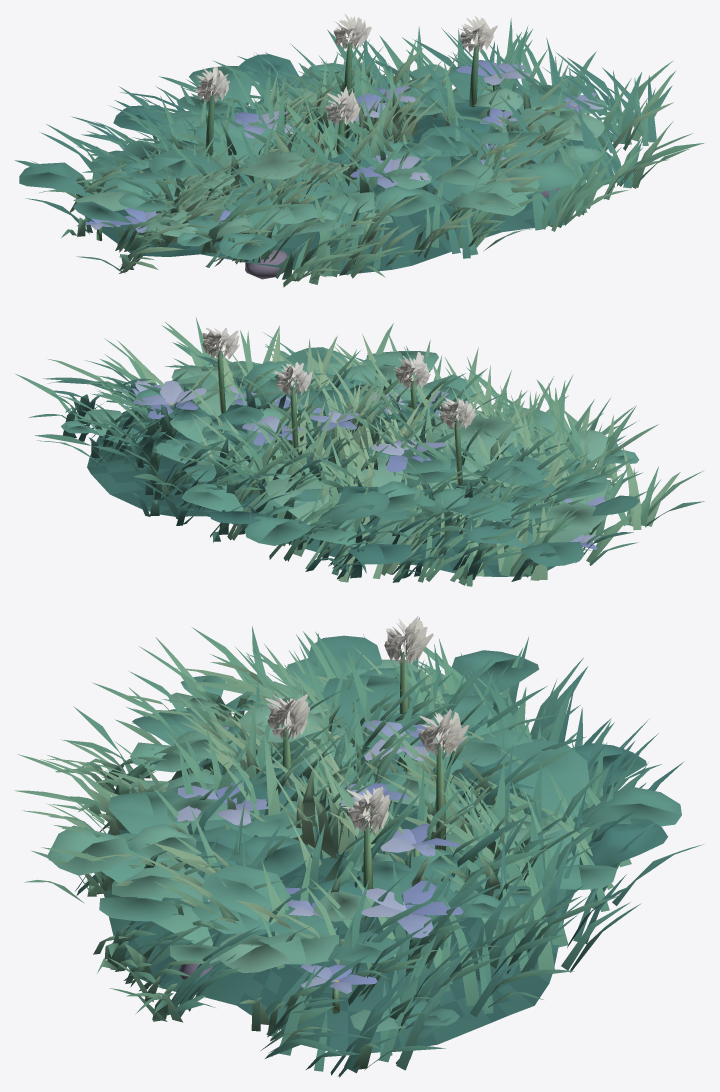
The model's file is clover.glb.
The picture shows the model from 3 angles, top to bottom: view 1: azimuth 30°, elevation 25°; view 2: azimuth 150°, elevation 25°; view 3: azimuth 270°, elevation 25°; orthographic projection. The views are drawn at different scales.
Visible parts, largest first — view 1: clover; view 2: clover; view 3: clover.
Part boxes in pixels (box(x1,y1,x2,y2)): clover: box(15, 14, 704, 287); clover: box(15, 318, 704, 586); clover: box(14, 615, 703, 1077).
Size of the model in its own units: 5.05 by 1.16 by 3.43.
